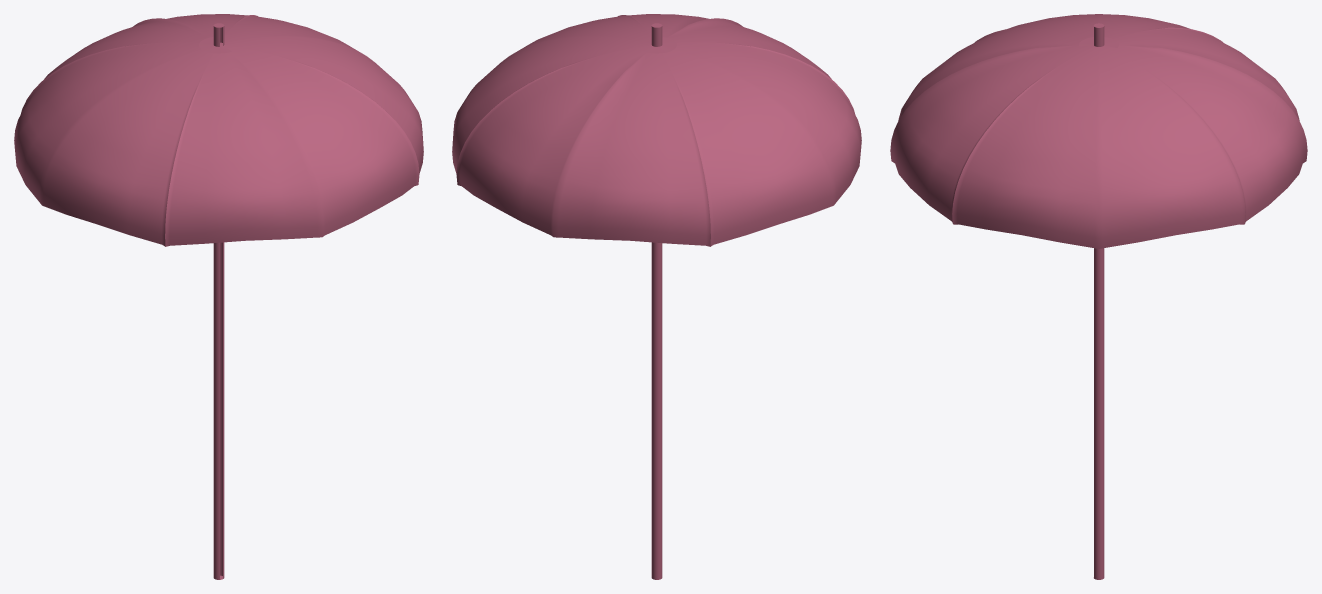
The model's file is Beach_Ombrella.fbx.
3 renders of one model, left to right at view 1: azimuth 30°, elevation 25°; view 2: azimuth 150°, elevation 25°; view 3: azimuth 270°, elevation 25°, orthographic.
Parts seen in each view (by area): view 1: Beach_Ombrella; view 2: Beach_Ombrella; view 3: Beach_Ombrella.
Part boxes in pixels (x1,y1,x2,y2): Beach_Ombrella: (14,14,423,579); Beach_Ombrella: (452,14,861,579); Beach_Ombrella: (890,14,1307,579).
Bounding box in the file's own units: 1114 × 1653 × 1132.
